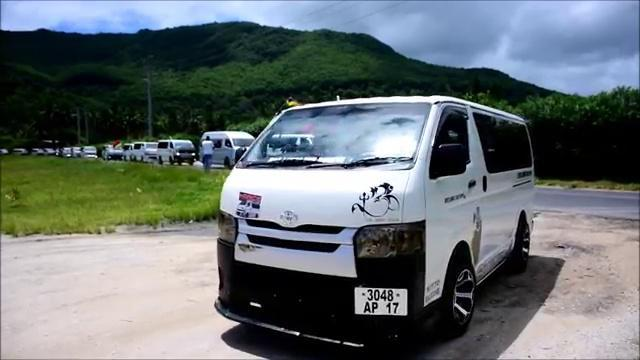van: (209, 100, 537, 346)
